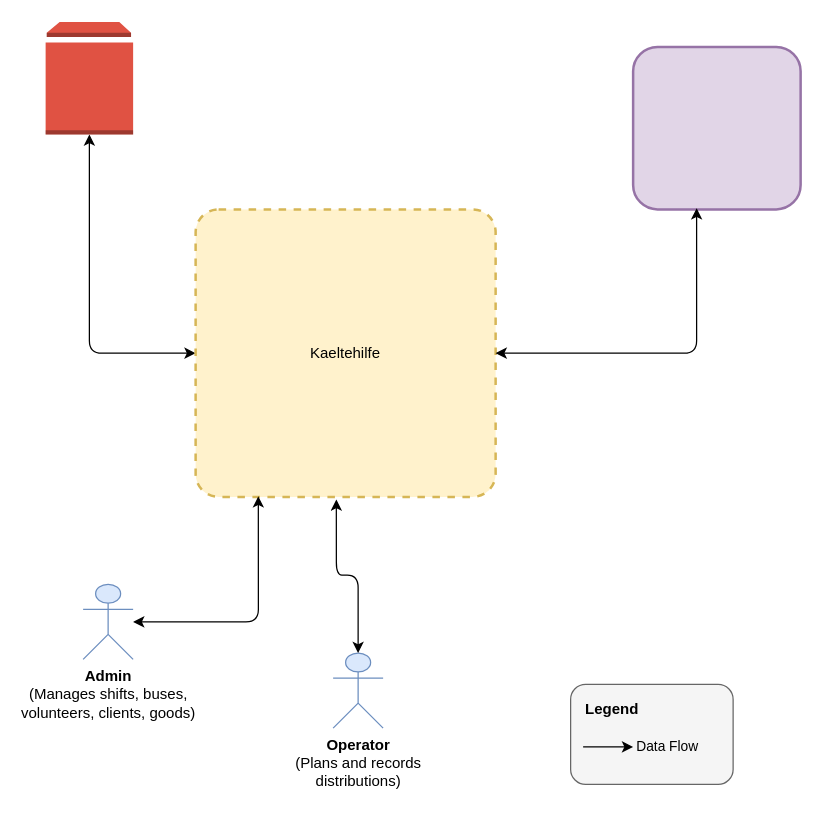
The diagram is 824 pixels wide and 813 high, and some of its shapes have lost their labels. Each missing label, with the box of its shape:
Certificate Storage: (44, 21, 133, 134)
Identity Provider: (631, 45, 801, 210)
